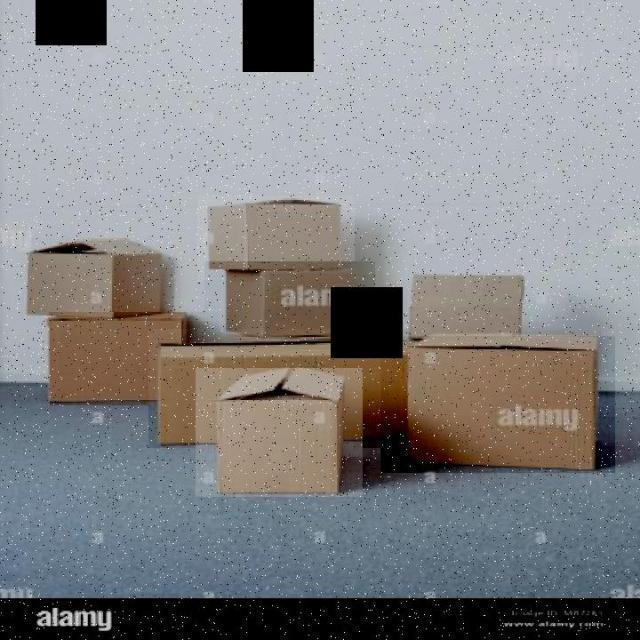box: (380, 336, 616, 473), (148, 329, 410, 448), (195, 368, 362, 497), (49, 312, 220, 406), (197, 196, 355, 282), (204, 261, 376, 339), (21, 236, 170, 326), (399, 265, 542, 354)
